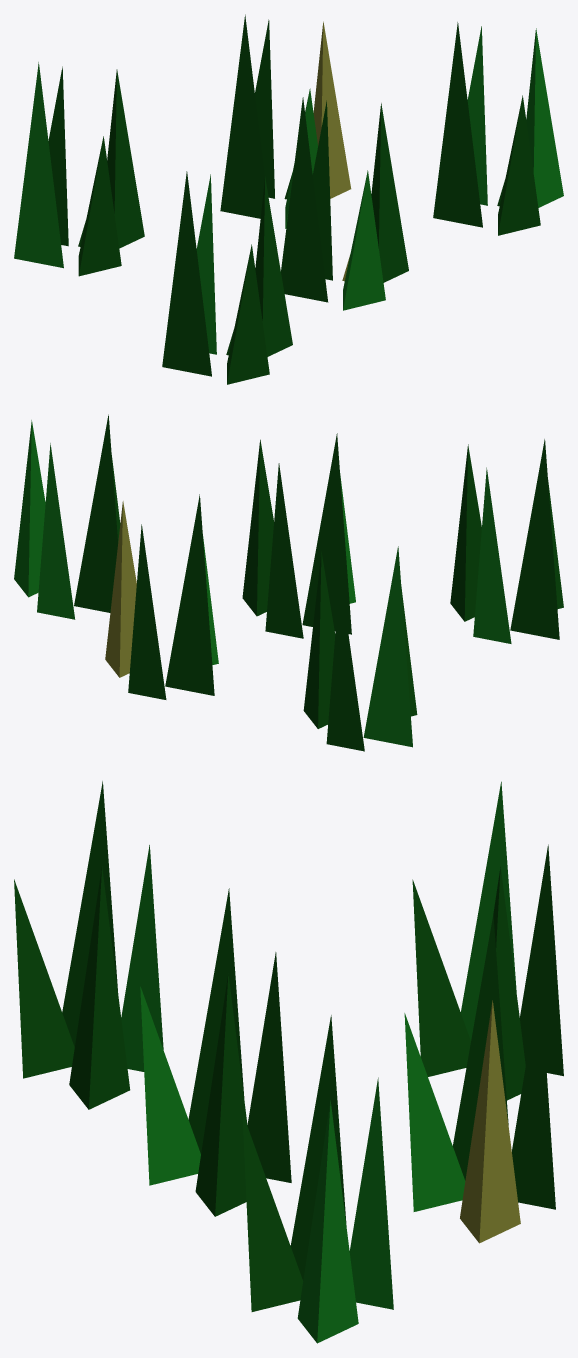
File: grass.obj
3 views of the same model, one above another, from view 1: azimuth 30°, elevation 25°; view 2: azimuth 150°, elevation 25°; view 3: azimuth 270°, elevation 25° (orthographic). The views are drawn at different scales.
Visible parts, largest first — view 1: Cone.010_Cone.013, Cone.006_Cone.003, Cone.014_Cone.018, Cone.002_Cone.006, Cone.018_Cone.023, Cone.012_Cone.015, Cone.016_Cone.020, Cone.008_Cone.010, Cone.004_Cone.008, Herbe.002_Cone.011, Herbe_Cone.004, Herbe.001_Cone.001 (+8 smaller); view 2: Cone.006_Cone.003, Cone.018_Cone.023, Cone.010_Cone.013, Cone.014_Cone.018, Cone.002_Cone.006, Cone.001_Cone.005, Cone.005_Cone.002, Cone.009_Cone.012, Cone.013_Cone.017, Cone.017_Cone.022, Cone.008_Cone.010, Cone.020_Cone.025 (+7 smaller); view 3: Cone.008_Cone.010, Cone.020_Cone.025, Cone.016_Cone.020, Cone.004_Cone.008, Herbe_Cone.004, Herbe.001_Cone.001, Herbe.004_Cone.021, Herbe.003_Cone.016, Cone.013_Cone.017, Cone.017_Cone.022, Herbe.002_Cone.011, Cone.001_Cone.005 (+8 smaller).
Part boxes in pixels (bbox=[...]): Cone.010_Cone.013: bbox=[14, 62, 63, 268]; Cone.006_Cone.003: bbox=[162, 171, 211, 376]; Cone.014_Cone.018: bbox=[433, 22, 482, 227]; Cone.002_Cone.006: bbox=[281, 97, 328, 302]; Cone.018_Cone.023: bbox=[220, 14, 264, 218]; Cone.012_Cone.015: bbox=[107, 69, 144, 248]; Cone.016_Cone.020: bbox=[526, 28, 563, 207]; Cone.008_Cone.010: bbox=[255, 177, 292, 356]; Cone.004_Cone.008: bbox=[371, 103, 408, 282]; Herbe.002_Cone.011: bbox=[78, 136, 121, 276]; Herbe_Cone.004: bbox=[343, 170, 385, 310]; Herbe.001_Cone.001: bbox=[227, 244, 269, 384]; Cone.006_Cone.003: bbox=[510, 439, 559, 639]; Cone.018_Cone.023: bbox=[165, 494, 214, 695]; Cone.010_Cone.013: bbox=[363, 546, 412, 747]; Cone.014_Cone.018: bbox=[74, 414, 117, 612]; Cone.002_Cone.006: bbox=[302, 433, 351, 634]; Cone.001_Cone.005: bbox=[265, 463, 303, 638]; Cone.005_Cone.002: bbox=[473, 467, 511, 643]; Cone.009_Cone.012: bbox=[326, 574, 364, 751]; Cone.013_Cone.017: bbox=[37, 443, 75, 619]; Cone.017_Cone.022: bbox=[128, 524, 166, 699]; Cone.008_Cone.010: bbox=[450, 444, 481, 621]; Cone.020_Cone.025: bbox=[105, 501, 136, 677]; Cone.008_Cone.010: bbox=[69, 866, 130, 1109]; Cone.020_Cone.025: bbox=[460, 1000, 520, 1243]; Cone.016_Cone.020: bbox=[297, 1099, 358, 1343]; Cone.004_Cone.008: bbox=[195, 973, 247, 1216]; Herbe_Cone.004: bbox=[140, 986, 200, 1185]; Herbe.001_Cone.001: bbox=[14, 879, 74, 1078]; Herbe.004_Cone.021: bbox=[404, 1013, 465, 1211]; Herbe.003_Cone.016: bbox=[242, 1112, 303, 1311]; Cone.013_Cone.017: bbox=[349, 1077, 393, 1309]; Cone.017_Cone.022: bbox=[512, 978, 555, 1209]; Herbe.002_Cone.011: bbox=[412, 879, 470, 1076]; Cone.001_Cone.005: bbox=[247, 952, 291, 1182].
Size of the model in its own units: 2.8 by 1.1 by 2.08.
